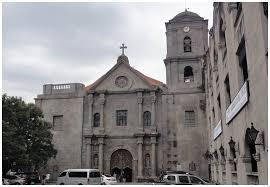San Agustin Church: (79, 8, 213, 184)
